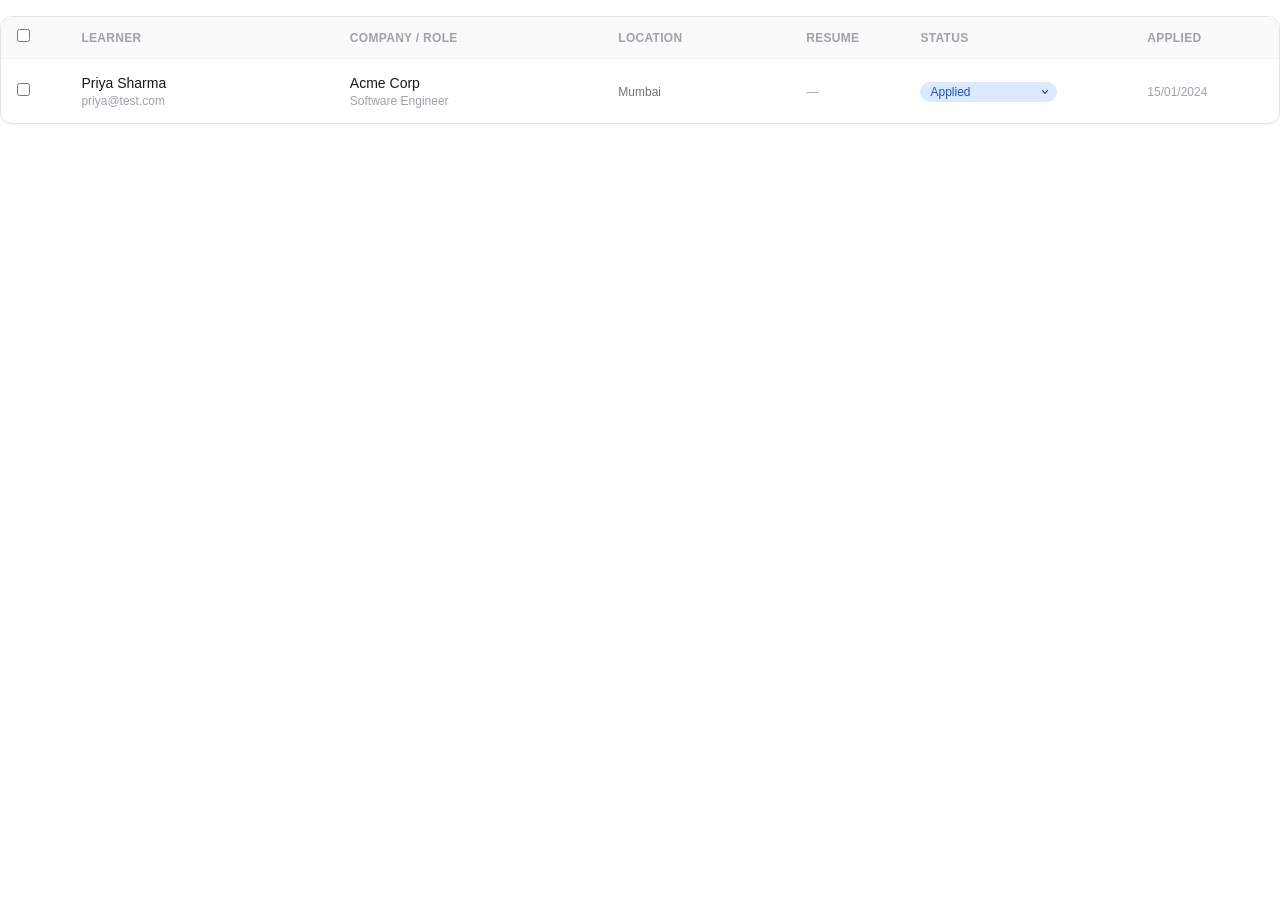
Test: ApplicationsList › modal cancel closes without updating status
The image size is (1280, 900).
Select "Not Shortlisted" in the dropdown at (989,92), box left=920, top=82, right=1058, bottom=102
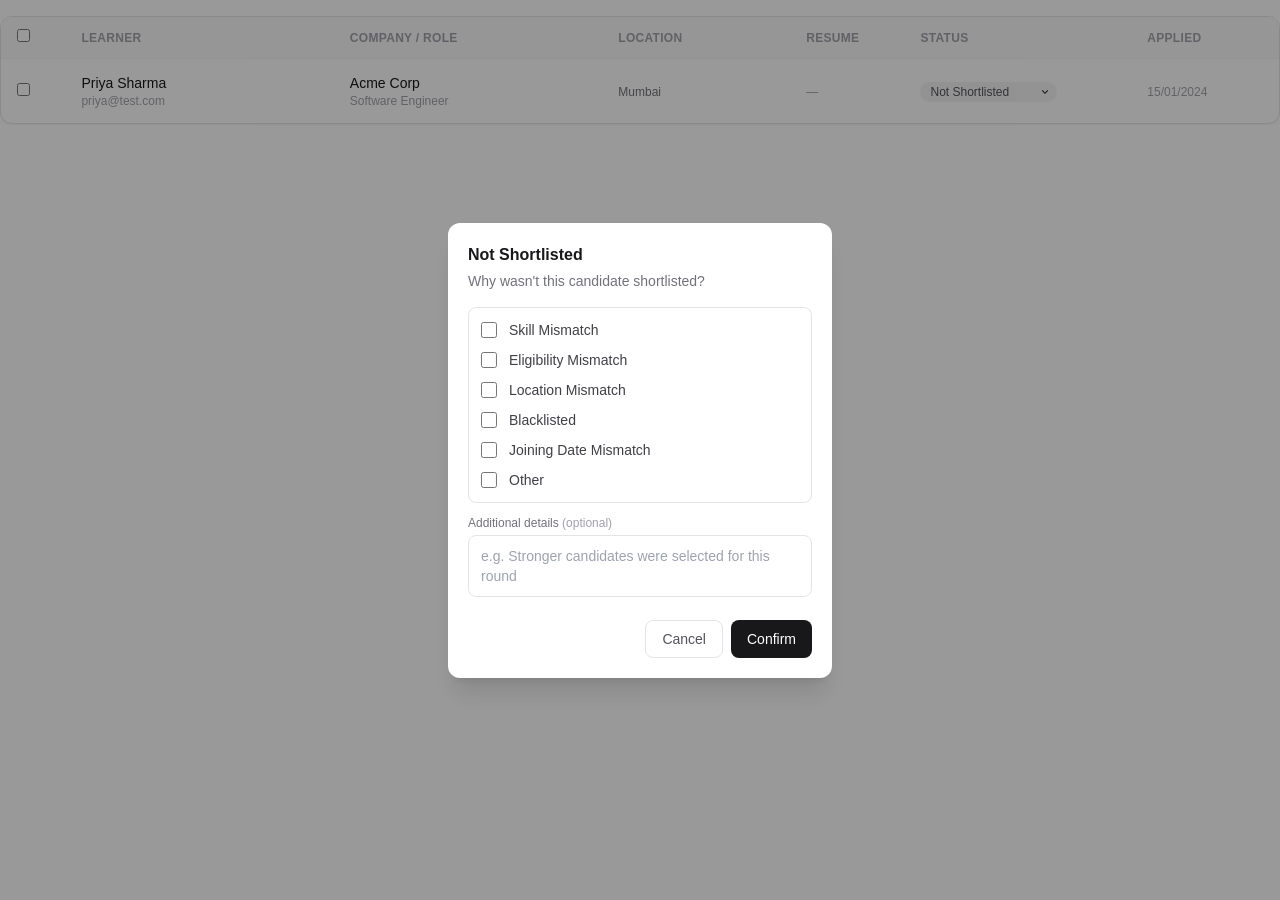
Click the button "Cancel".
click(684, 638)  # box left=645, top=620, right=723, bottom=658
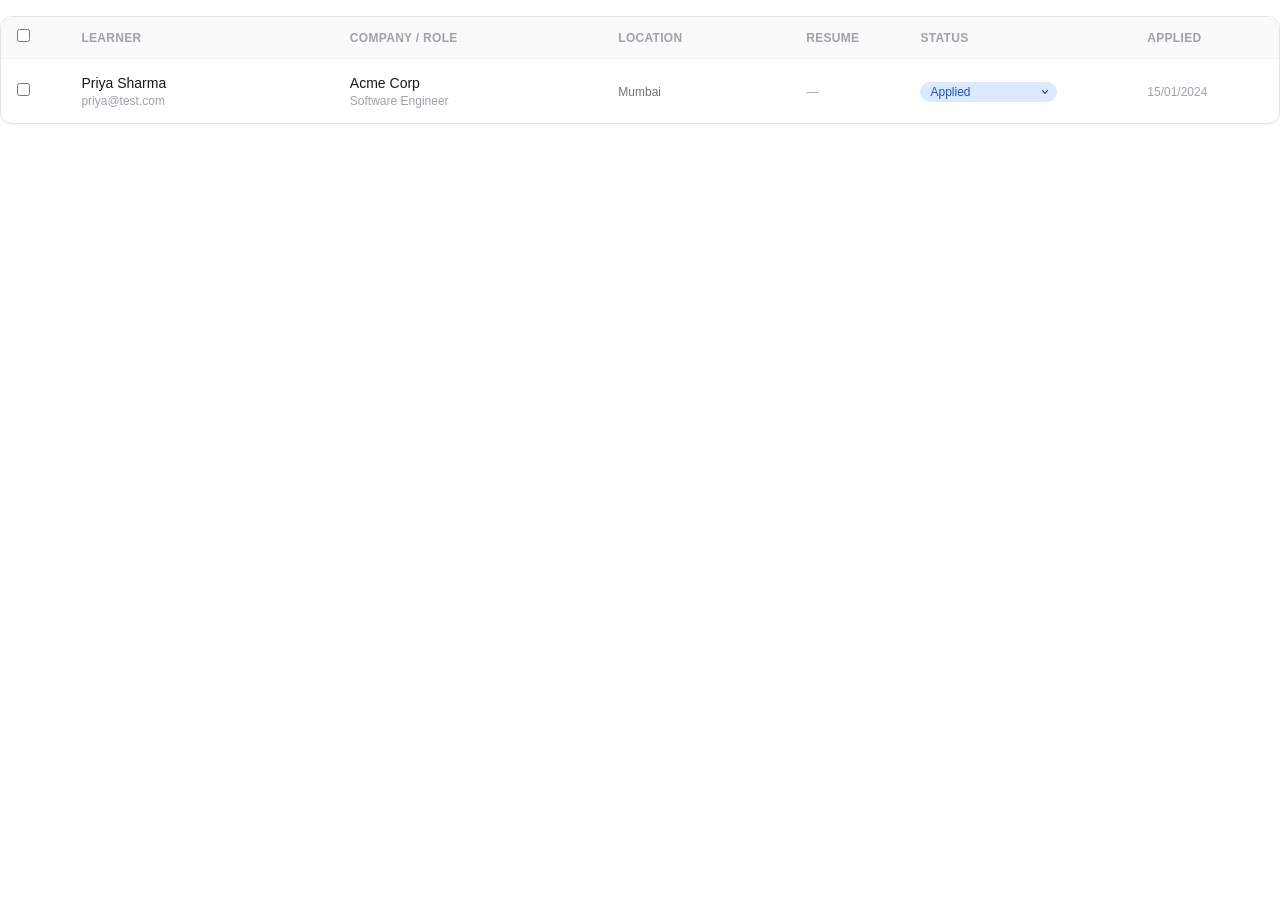
Expected: the text "Why wasn't this candidate shortlisted?" is gone
